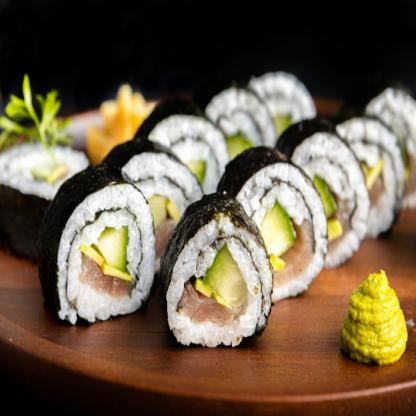futomaki: (157, 190, 277, 358)
